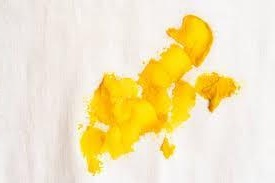mustard: (81, 59, 183, 166), (172, 70, 240, 126), (160, 17, 218, 79)
